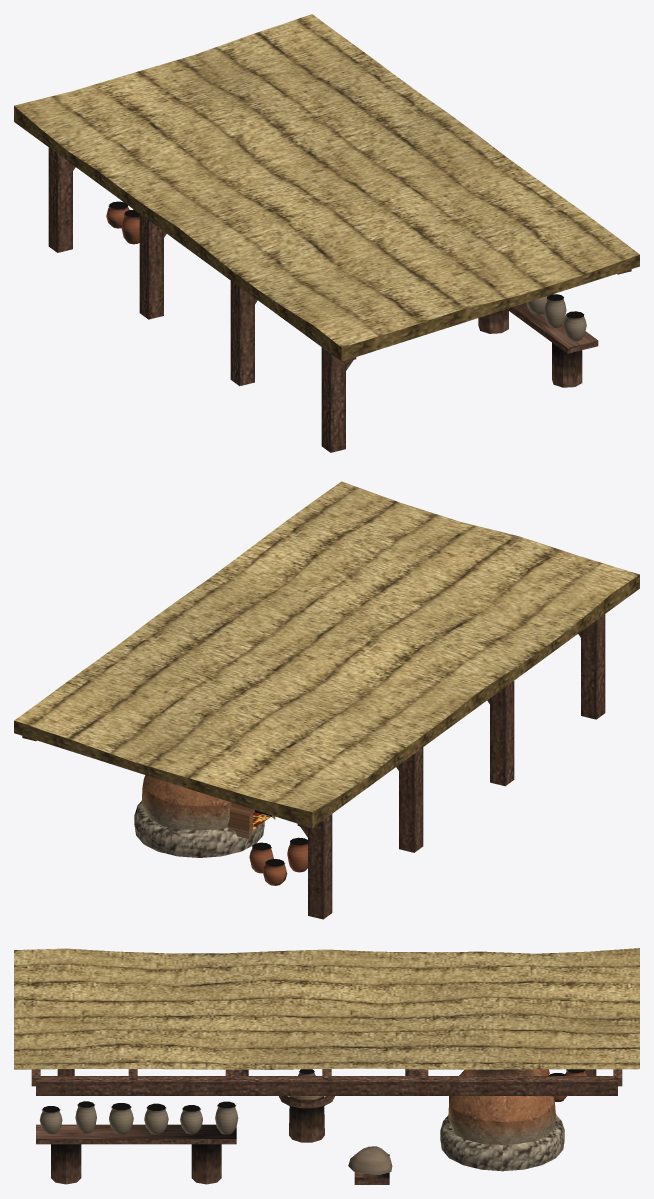
The model's file is pristresek-hrncir.glb.
3 renders of one model, top to bottom at view 1: azimuth 30°, elevation 25°; view 2: azimuth 150°, elevation 25°; view 3: azimuth 270°, elevation 25°, orthographic. The views are drawn at different scales.
Visible parts, largest first — view 1: pristresek-hrncir; view 2: pristresek-hrncir; view 3: pristresek-hrncir.
Part boxes in pixels (bbox=[...]): pristresek-hrncir: bbox=[14, 14, 639, 452]; pristresek-hrncir: bbox=[14, 481, 639, 919]; pristresek-hrncir: bbox=[14, 948, 639, 1184].
Bounding box in the file's own units: 3.31 × 1.54 × 6.24.
1 material, 1 textured.
